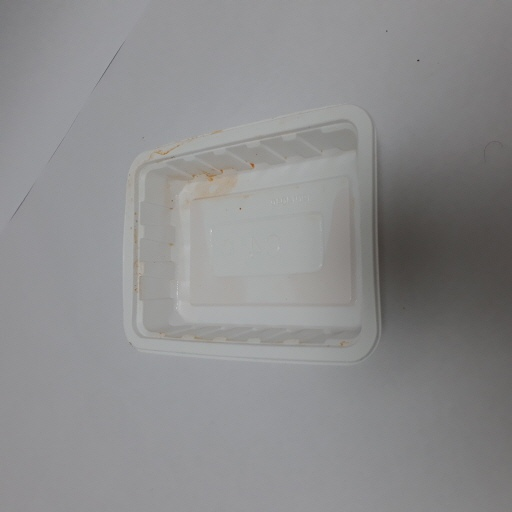Plastic_4: (120, 103, 384, 364)
